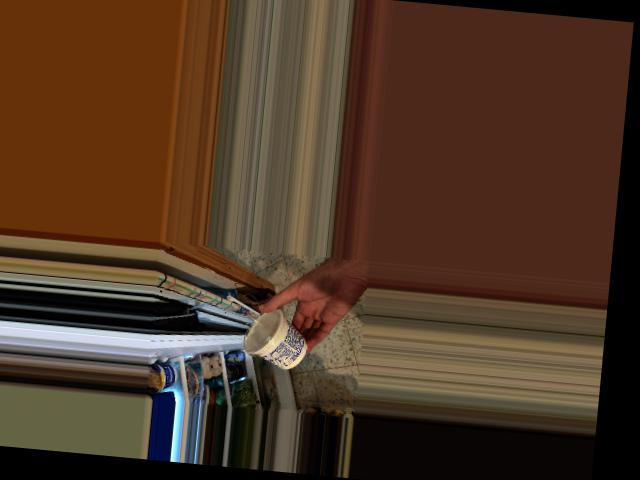cotage: (242, 302, 305, 368)
